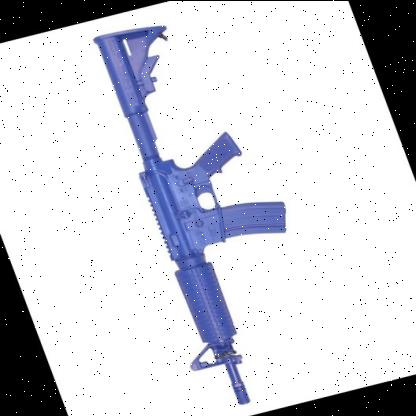rifle: (71, 2, 349, 416)
